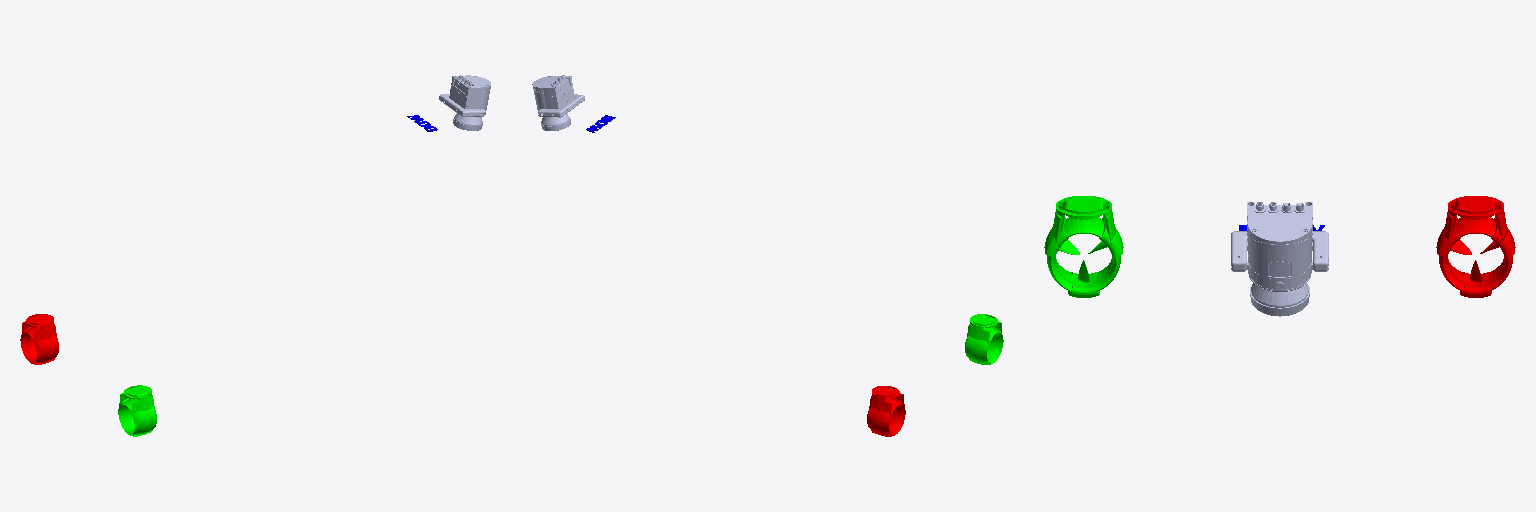
URDF robot description (propagator):
<robot
  name="propagator">
  <link
    name="base_link">
    <inertial>
      <origin
        xyz="-0.0415869726158866 -0.00625483966251392 -0.0213812300507671"
        rpy="0 0 0" />
      <mass
        value="39.863607133373" />
      <inertia
        ixx="3.82040417943905"
        ixy="-0.00762575911292515"
        ixz="0.935878421154655"
        iyy="11.533921351454"
        iyz="-0.000302008115647474"
        izz="13.8290501505245" />
    </inertial>
    <visual>
      <origin
        xyz="0 0 0"
        rpy="0 0 0" />
      <geometry>
        <mesh
          filename="package://propagator_description/meshes/base_link.STL" />
      </geometry>
      <material name="blue">
        <color rgba="0 0 1 .25" />
      </material>
    </visual>
    <collision>
      <origin
        xyz="0 0 0"
        rpy="0 0 0" />
      <geometry>
        <mesh
          filename="package://propagator_description/meshes/base_link.STL" />
      </geometry>
    </collision>
  </link>
  <link
    name="port_prop_housing">
    <inertial>
      <origin
        xyz="-0.00498963948244502 1.19458740479583E-05 0.0215390674937084"
        rpy="0 0 0" />
      <mass
        value="0.206624181342967" />
      <inertia
        ixx="0.00068454456545582"
        ixy="8.08174284626606E-08"
        ixz="-1.21489129963592E-05"
        iyy="0.000537480451235849"
        iyz="-8.59403927352897E-08"
        izz="0.000333382604559422" />
    </inertial>
    <visual>
      <origin
        xyz="0 0 0"
        rpy="0 0 0" />
      <geometry>
        <mesh
          filename="package://propagator_description/meshes/port_prop_housing.STL" />
      </geometry>
      <material name="red">
        <color
          rgba="1 0 0 .5" />
      </material>
    </visual>
    <collision>
      <origin
        xyz="0 0 0"
        rpy="0 0 0" />
      <geometry>
        <mesh
          filename="package://propagator_description/meshes/port_prop_housing.STL" />
      </geometry>
    </collision>
  </link>
  <joint
    name="port_servo"
    type="revolute">
    <origin
      xyz="-0.659192821211375 0.296562240929375 -0.345876978652672"
      rpy="4.01736136899036E-35 0 0" />
    <parent
      link="base_link" />
    <child
      link="port_prop_housing" />
    <axis
      xyz="0 0 1" />
      <limit lower="0" upper="6.283185" velocity="6.597344565" effort="6.0" />
  </joint>
  <link
    name="port_propeller">
    <inertial>
      <origin
        xyz="0.00048182 -1.2442E-06 2.894E-05"
        rpy="0 0 0" />
      <mass
        value="0.039686" />
      <inertia
        ixx="7.834E-05"
        ixy="-3.2019E-10"
        ixz="-2.3552E-06"
        iyy="4.1887E-05"
        iyz="1.4746E-10"
        izz="4.2037E-05" />
    </inertial>
    <visual>
      <origin
        xyz="0 0 0"
        rpy="0 0 0" />
      <geometry>
        <mesh
          filename="package://propagator_description/meshes/port_propeller.STL" />
      </geometry>
      <material name="red">
      </material>
    </visual>
    <collision>
      <origin
        xyz="0 0 0"
        rpy="0 0 0" />
      <geometry>
        <mesh
          filename="package://propagator_description/meshes/port_propeller.STL" />
      </geometry>
    </collision>
  </link>
  <joint
    name="port_housing_to_prop"
    type="prismatic">
    <origin
      xyz="-0.000691858234449394 0 -4.4696283903245E-05"
      rpy="4.01736136899036E-35 0 0" />
    <parent
      link="port_prop_housing" />
    <child
      link="port_propeller" />
    <axis
      xyz="-1 0 0" />
      <limit lower="0" upper="1" velocity="1" effort="1" />
  </joint>
  <link
    name="starboard_prop_housing">
    <inertial>
      <origin
        xyz="-0.0049896 1.2213E-05 0.021539"
        rpy="0 0 0" />
      <mass
        value="0.20662" />
      <inertia
        ixx="0.00068454"
        ixy="8.0542E-08"
        ixz="-1.2149E-05"
        iyy="0.00053748"
        iyz="-8.4831E-08"
        izz="0.00033338" />
    </inertial>
    <visual>
      <origin
        xyz="0 0 0"
        rpy="0 0 0" />
      <geometry>
        <mesh
          filename="package://propagator_description/meshes/starboard_prop_housing.STL" />
      </geometry>
      <material name="green">
        <color rgba="0 1 0 .5" />
      </material>
    </visual>
    <collision>
      <origin
        xyz="0 0 0"
        rpy="0 0 0" />
      <geometry>
        <mesh
          filename="package://propagator_description/meshes/starboard_prop_housing.STL" />
      </geometry>
    </collision>
  </link>
  <joint
    name="starboard_servo"
    type="revolute">
    <origin
      xyz="-0.659192821211375 -0.312118124727417 -0.345876978652668"
      rpy="4.01736136899036E-35 0 0" />
    <parent
      link="base_link" />
    <child
      link="starboard_prop_housing" />
    <axis
      xyz="0 0 1" />
      <limit lower="0" upper="6.283185" velocity="6.597344565" effort="6.0" />
  </joint>
  <link
    name="starboard_propeller">
    <inertial>
      <origin
        xyz="0.00048182 -1.2442E-06 2.894E-05"
        rpy="0 0 0" />
      <mass
        value="0.039686" />
      <inertia
        ixx="7.834E-05"
        ixy="-3.2019E-10"
        ixz="-2.3552E-06"
        iyy="4.1887E-05"
        iyz="1.4746E-10"
        izz="4.2037E-05" />
    </inertial>
    <visual>
      <origin
        xyz="0 0 0"
        rpy="0 0 0" />
      <geometry>
        <mesh
          filename="package://propagator_description/meshes/starboard_propeller.STL" />
      </geometry>
      <material name="green">
      </material>
    </visual>
    <collision>
      <origin
        xyz="0 0 0"
        rpy="0 0 0" />
      <geometry>
        <mesh
          filename="package://propagator_description/meshes/starboard_propeller.STL" />
      </geometry>
    </collision>
  </link>
  <joint
    name="starboard_housing_to_prop"
    type="prismatic">
    <origin
      xyz="-0.000691858234449505 0 -4.46962839034115E-05"
      rpy="4.01736136899036E-35 0 0" />
    <parent
      link="starboard_prop_housing" />
    <child
      link="starboard_propeller" />
    <axis
      xyz="-1 0 0" />
    <limit lower="0" upper="1" velocity="1" effort="1" />
  </joint>
  <link
    name="lidar">
    <inertial>
      <origin
        xyz="0.0592107824998666 0.0527713136518488 -0.0249291589313144"
        rpy="0 0 0" />
      <mass
        value="1.29594590979252" />
      <inertia
        ixx="0.00314879199623082"
        ixy="-1.74282951480328E-07"
        ixz="-4.15021660215941E-07"
        iyy="0.00323945410310953"
        iyz="4.61557976596404E-05"
        izz="0.00217323763280054" />
    </inertial>
    <visual>
      <origin
        xyz="0 0 0"
        rpy="0 0 0" />
      <geometry>
        <mesh
          filename="package://propagator_description/meshes/lidar.STL" />
      </geometry>
      <material
        name="">
        <color
          rgba="0.792156862745098 0.819607843137255 0.933333333333333 1" />
      </material>
    </visual>
    <collision>
      <origin
        xyz="0 0 0"
        rpy="0 0 0" />
      <geometry>
        <mesh
          filename="package://propagator_description/meshes/lidar.STL" />
      </geometry>
    </collision>
  </link>
  <joint
    name="lidar_servo"
    type="fixed">
    <origin
      xyz="0.645299789819263 -0.0669769690222898 0.27477134491897"
      rpy="-2.94943335198801 3.24078283203981E-05 1.57062975690281" />
    <parent
      link="base_link" />
    <child
      link="lidar" />
    <axis
      xyz="0 0 0" />
  </joint>
</robot>

--- Facts derived from the render (not from the file) ---
The picture shows the robot from 3 angles, left to right: view 1: azimuth 30°, elevation 25°; view 2: azimuth 150°, elevation 25°; view 3: azimuth 270°, elevation 25°; orthographic projection.
Model propagator with 6 links and 5 joints (2 revolute, 2 prismatic, 1 fixed), rooted at base_link, posed all joints at 0.
Visible links, largest first — view 1: lidar, starboard_prop_housing, port_prop_housing; view 2: lidar, starboard_prop_housing, port_prop_housing; view 3: lidar, starboard_prop_housing, port_prop_housing.
Boxes of the visible links, x1=… form: lidar: x1=439, y1=75, x2=490, y2=130; starboard_prop_housing: x1=118, y1=385, x2=156, y2=436; port_prop_housing: x1=20, y1=314, x2=58, y2=364; lidar: x1=532, y1=75, x2=584, y2=130; starboard_prop_housing: x1=965, y1=314, x2=1003, y2=364; port_prop_housing: x1=867, y1=386, x2=905, y2=436; lidar: x1=1231, y1=202, x2=1328, y2=316; starboard_prop_housing: x1=1044, y1=196, x2=1123, y2=297; port_prop_housing: x1=1436, y1=196, x2=1515, y2=297.
Bounding box of the posed robot: 1.48 × 0.7315 × 0.7816 m (x, y, z).
5 mesh visuals loaded from 6 distinct referenced files (5 binary STL); not drawn: 1 (reference not matched to a file when rendering).
